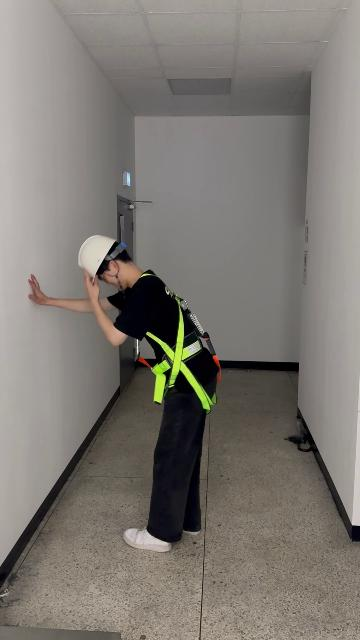helmet_worn: (78, 234, 121, 281)
shoe_not_worn: (123, 526, 172, 552)
vest_worn: (137, 281, 220, 410)
